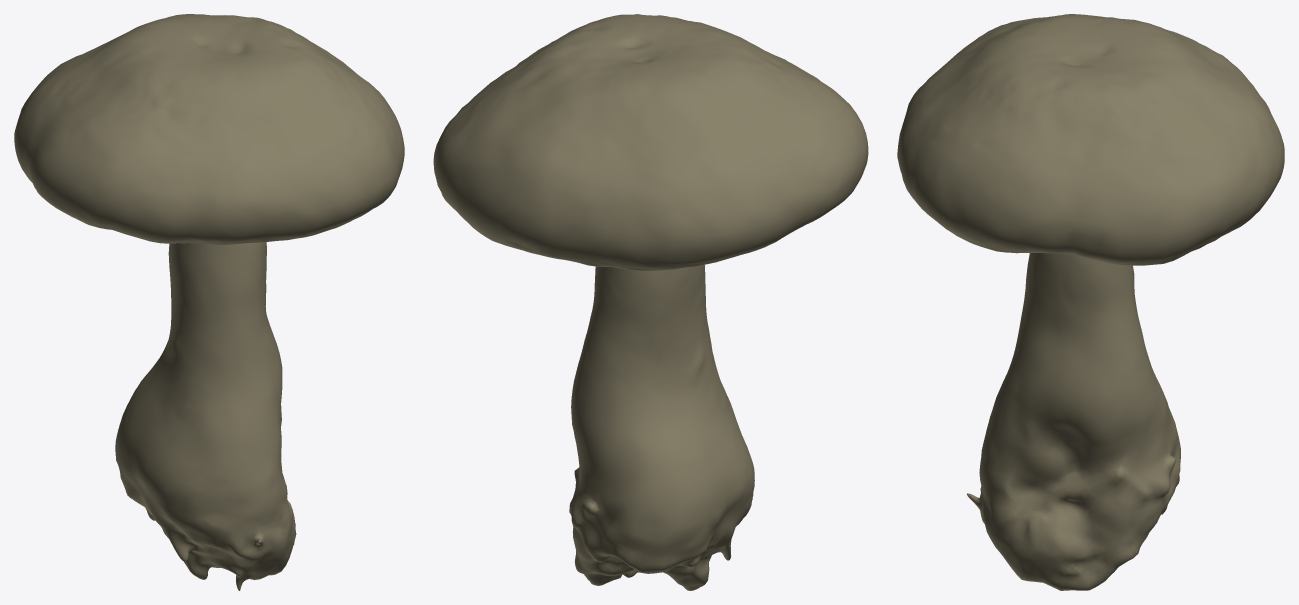
Rendered from mushroom.glb.
3 renders of one model, left to right at view 1: azimuth 30°, elevation 25°; view 2: azimuth 150°, elevation 25°; view 3: azimuth 270°, elevation 25°, orthographic. The views are drawn at different scales.
Parts seen in each view (by area): view 1: CortinariusViolaceus_rt; view 2: CortinariusViolaceus_rt; view 3: CortinariusViolaceus_rt.
Boxes of the visible parts, bbox=[...] form: CortinariusViolaceus_rt: bbox=[14, 14, 404, 590]; CortinariusViolaceus_rt: bbox=[433, 14, 868, 590]; CortinariusViolaceus_rt: bbox=[897, 14, 1284, 590].
Size of the model in its own units: 0.1135 by 0.1647 by 0.1107.
